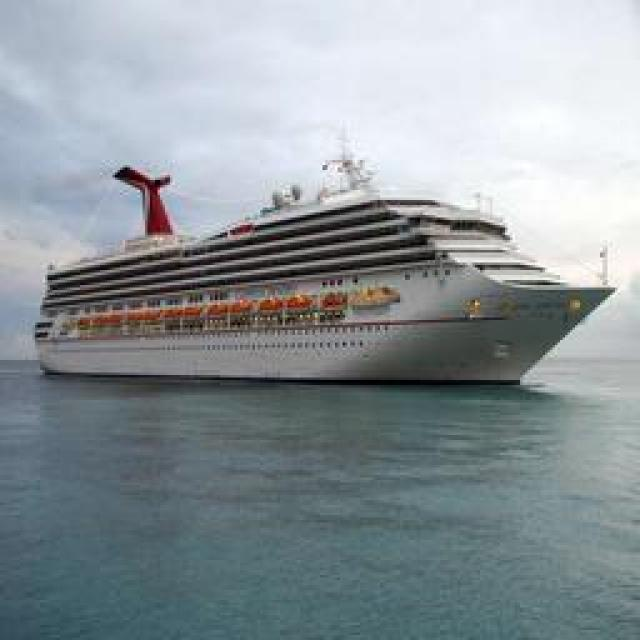ship2: (34, 161, 617, 388)
